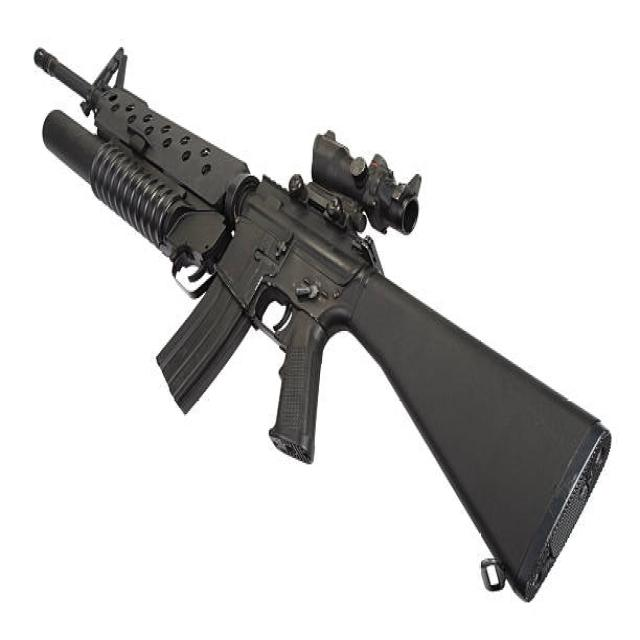rifle: (25, 28, 619, 616)
